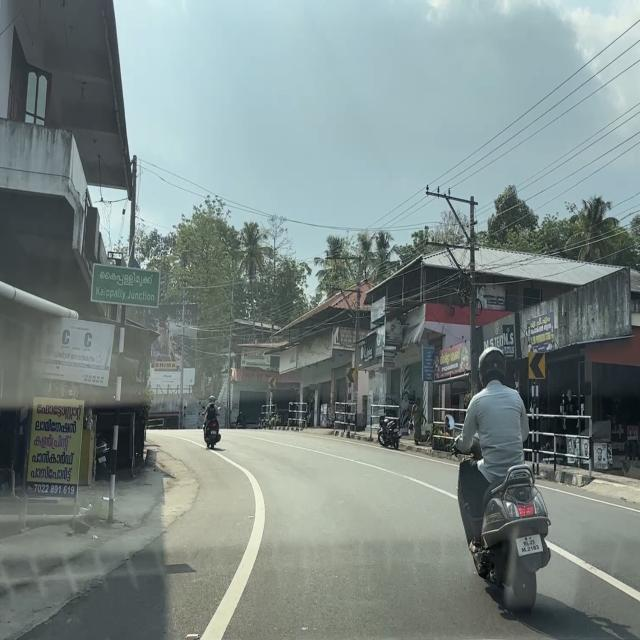GENERAL: (90, 263, 160, 308)
TURN_LEFT: (527, 350, 546, 380), (345, 368, 356, 383), (268, 377, 276, 389)
